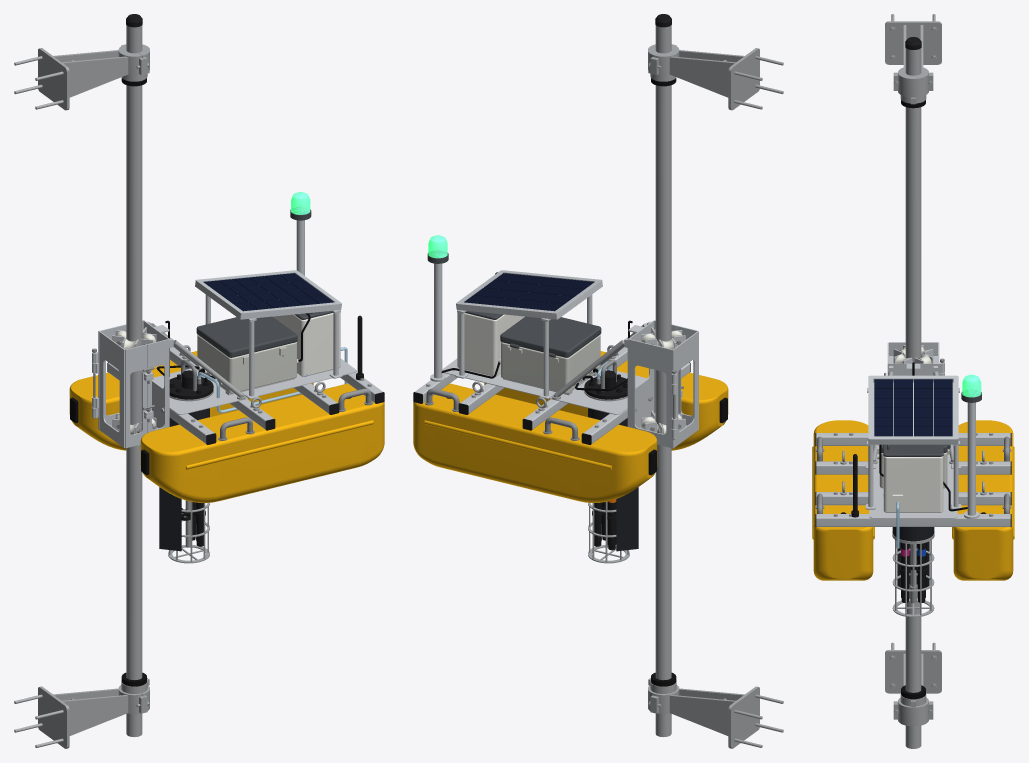
File: AquaSentinel_R3_AR.glb
The picture shows the model from 3 angles, left to right: view 1: azimuth 30°, elevation 25°; view 2: azimuth 150°, elevation 25°; view 3: azimuth 270°, elevation 25°; orthographic projection.
Visible parts, largest first — view 1: Pontoon_Port, Guide_Pole, Pier_Bracket_Upper, Pier_Bracket_Lower, Carriage_Gate, Pod_Body, PV_Module_Cells, Carriage_Fixed, Pontoon_Starboard, Pod_Lid, Sampler_Body, Deck_Plate (+8 smaller); view 2: Pontoon_Starboard, Guide_Pole, Carriage_Fixed, Pier_Bracket_Upper, Pier_Bracket_Lower, Pod_Body, PV_Module_Cells, Pontoon_Port, Pod_Lid, Sampler_Body, Carriage_Gate, PV_Module_Frame (+9 smaller); view 3: Guide_Pole, Pontoon_Port, Pontoon_Starboard, PV_Module_Cells, Sampler_Body, PV_Module_Frame, Pier_Bracket_Upper, Crossbeam_4, Pier_Bracket_Lower, Deck_Plate, Sensor_Cage, Crossbeam_2 (+14 smaller).
Part boxes in pixels (<box>): Pontoon_Port: <box>140,383,384,502</box>; Guide_Pole: <box>126,25,142,737</box>; Pier_Bracket_Upper: <box>38,44,144,110</box>; Pier_Bracket_Lower: <box>38,685,144,748</box>; Carriage_Gate: <box>92,330,153,448</box>; Pod_Body: <box>197,334,298,393</box>; PV_Module_Cells: <box>203,273,333,311</box>; Carriage_Fixed: <box>92,320,173,432</box>; Pontoon_Starboard: <box>69,351,313,450</box>; Pod_Lid: <box>196,316,297,357</box>; Sampler_Body: <box>273,312,340,376</box>; Deck_Plate: <box>152,358,356,414</box>; Pontoon_Starboard: <box>413,383,657,502</box>; Guide_Pole: <box>655,25,671,737</box>; Carriage_Fixed: <box>624,320,682,448</box>; Pier_Bracket_Upper: <box>653,44,759,110</box>; Pier_Bracket_Lower: <box>653,685,759,748</box>; Pod_Body: <box>499,334,600,393</box>; PV_Module_Cells: <box>464,273,594,311</box>; Pontoon_Port: <box>484,351,728,450</box>; Pod_Lid: <box>500,316,601,357</box>; Sampler_Body: <box>457,312,524,376</box>; Carriage_Gate: <box>658,325,698,447</box>; PV_Module_Frame: <box>456,270,602,319</box>; Guide_Pole: <box>905,48,921,748</box>; Pontoon_Port: <box>812,420,874,580</box>; Pontoon_Starboard: <box>952,420,1014,580</box>; PV_Module_Cells: <box>874,379,952,436</box>; Sampler_Body: <box>883,456,943,512</box>; PV_Module_Frame: <box>868,375,958,444</box>; Pier_Bracket_Upper: <box>885,21,941,74</box>; Crossbeam_4: <box>816,514,1010,526</box>; Pier_Bracket_Lower: <box>885,650,941,702</box>; Deck_Plate: <box>869,445,957,518</box>; Sensor_Cage: <box>892,531,934,617</box>; Crossbeam_2: <box>816,461,1010,474</box>.
Size of the model in its own units: 1.38 by 3.01 by 0.782.
